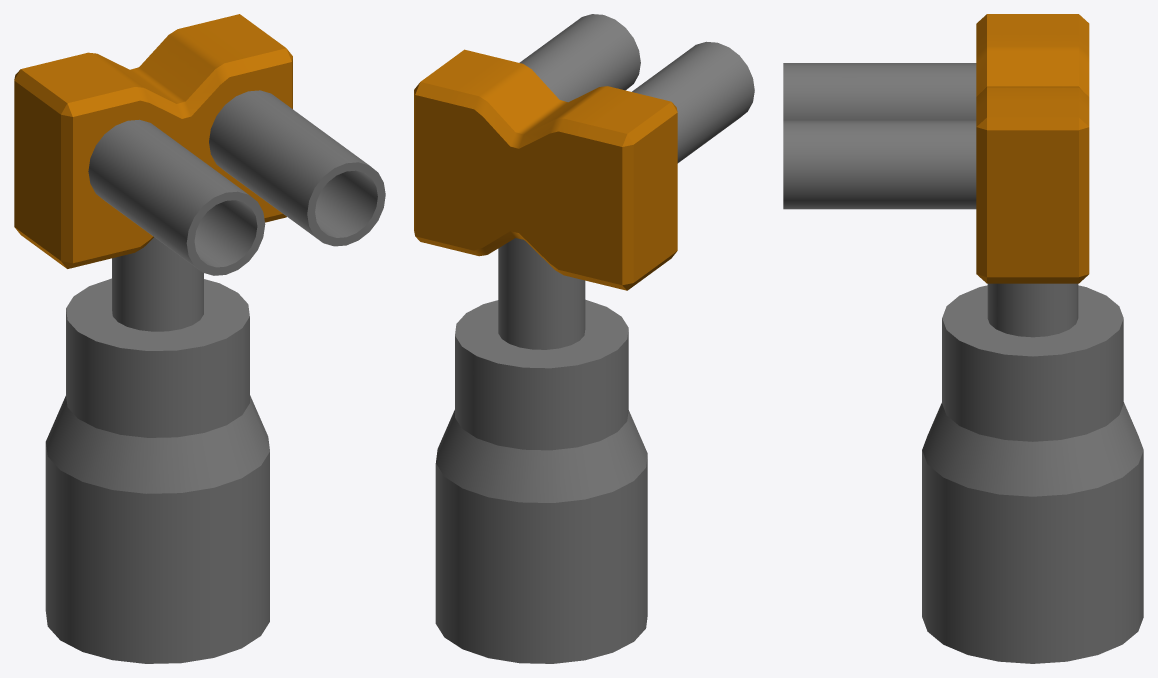
File: Turret3.fbx
3 views of the same model, side by side, from view 1: azimuth 30°, elevation 25°; view 2: azimuth 150°, elevation 25°; view 3: azimuth 270°, elevation 25° (orthographic). The views are drawn at different scales.
Visible parts, largest first — view 1: pasted__pCylinder1; view 2: pasted__pCylinder1; view 3: pasted__pCylinder1.
Part boxes in pixels (x1=…): pasted__pCylinder1: x1=14, y1=14, x2=385, y2=663; pasted__pCylinder1: x1=414, y1=14, x2=754, y2=663; pasted__pCylinder1: x1=783, y1=14, x2=1143, y2=663.
Size of the model in its own units: 1.73 by 4 by 2.37.
